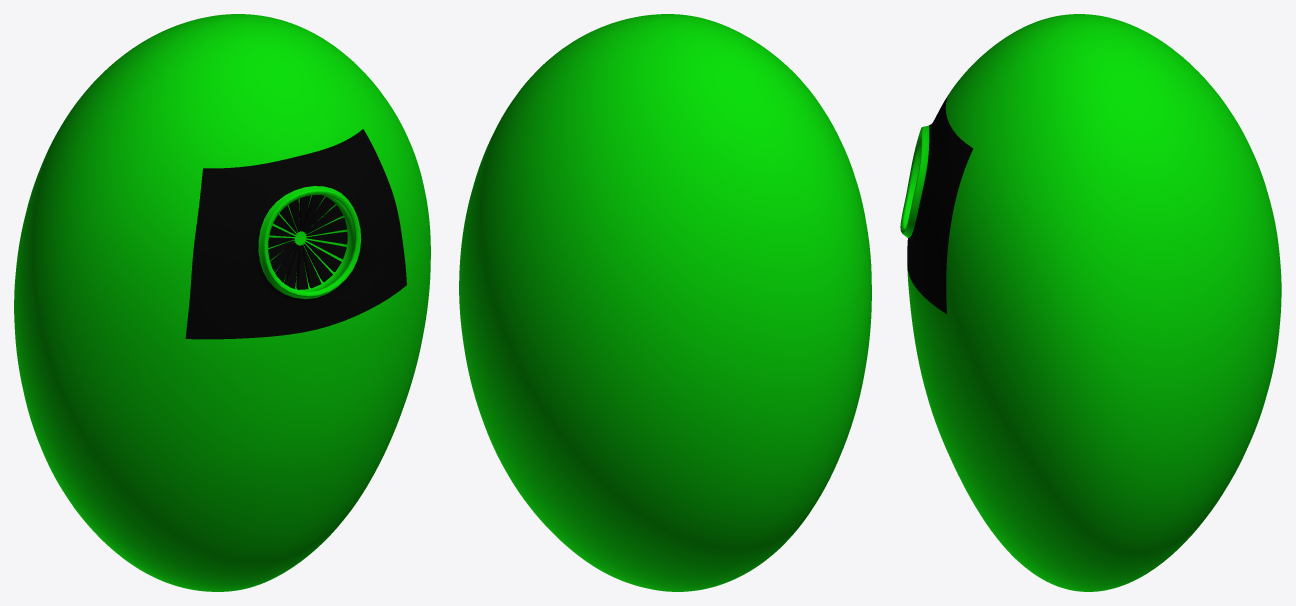
The model's file is turret.fbx.
3 views of the same model, side by side, from view 1: azimuth 30°, elevation 25°; view 2: azimuth 150°, elevation 25°; view 3: azimuth 270°, elevation 25° (orthographic).
Parts seen in each view (by area): view 1: polySurface11; view 2: polySurface11; view 3: polySurface11.
Part boxes in pixels (box(x1,y1,x2,y2)): polySurface11: box(14, 14, 430, 591); polySurface11: box(459, 14, 871, 591); polySurface11: box(900, 14, 1281, 591).
Bounding box in the file's own units: 2.24 × 3.15 × 1.97.
